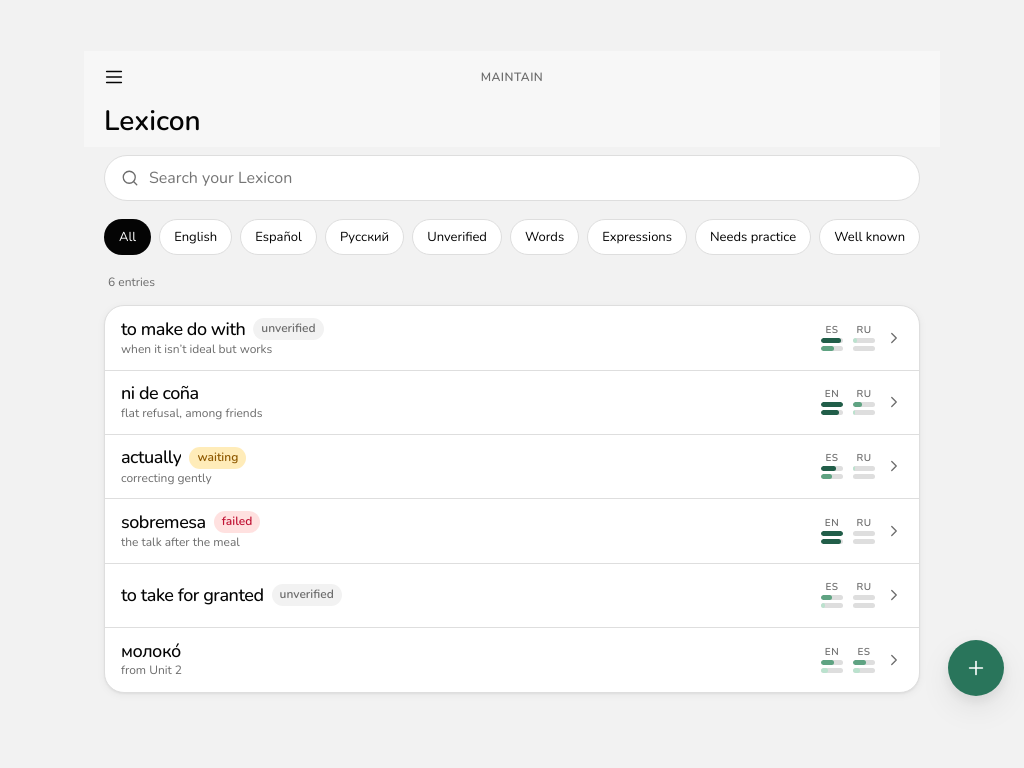
it: a held Lexicon row › deletes from the options only after asking
# A right click, or the keyboard's menu key, opens the same options.
Right-click the button "sobremesa failed the talk after the meal EN RU" at (163, 522), box 105,499 -> 919,564
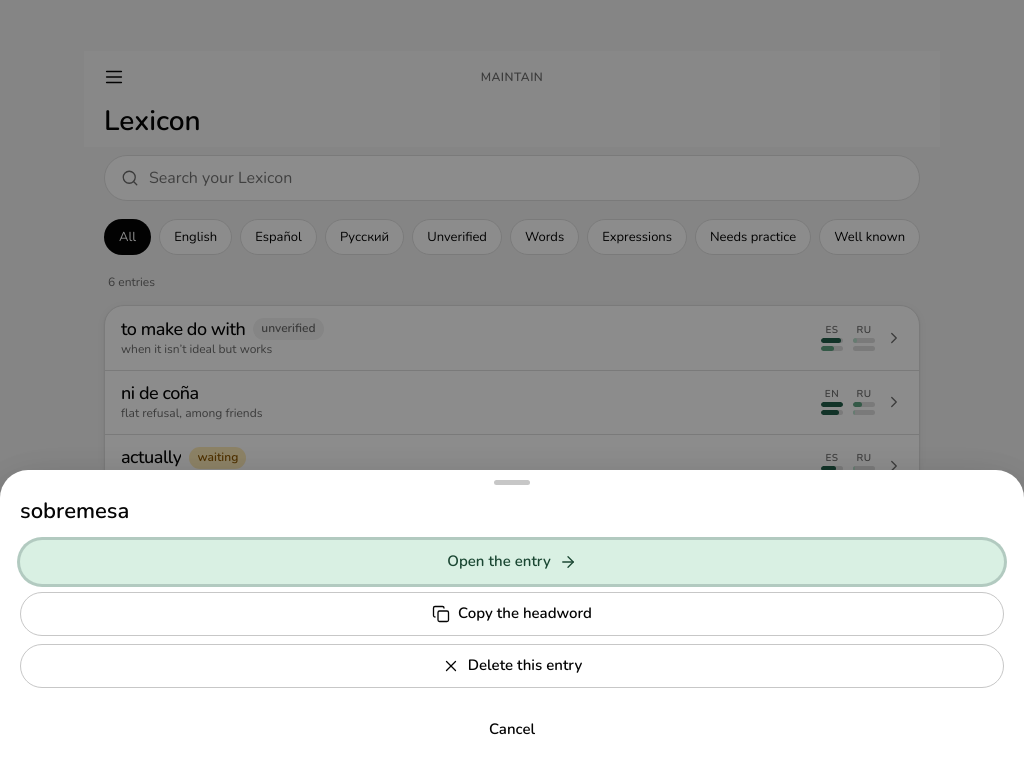
Click the button "Delete this entry" at (512, 666), box 20,644 -> 1004,688
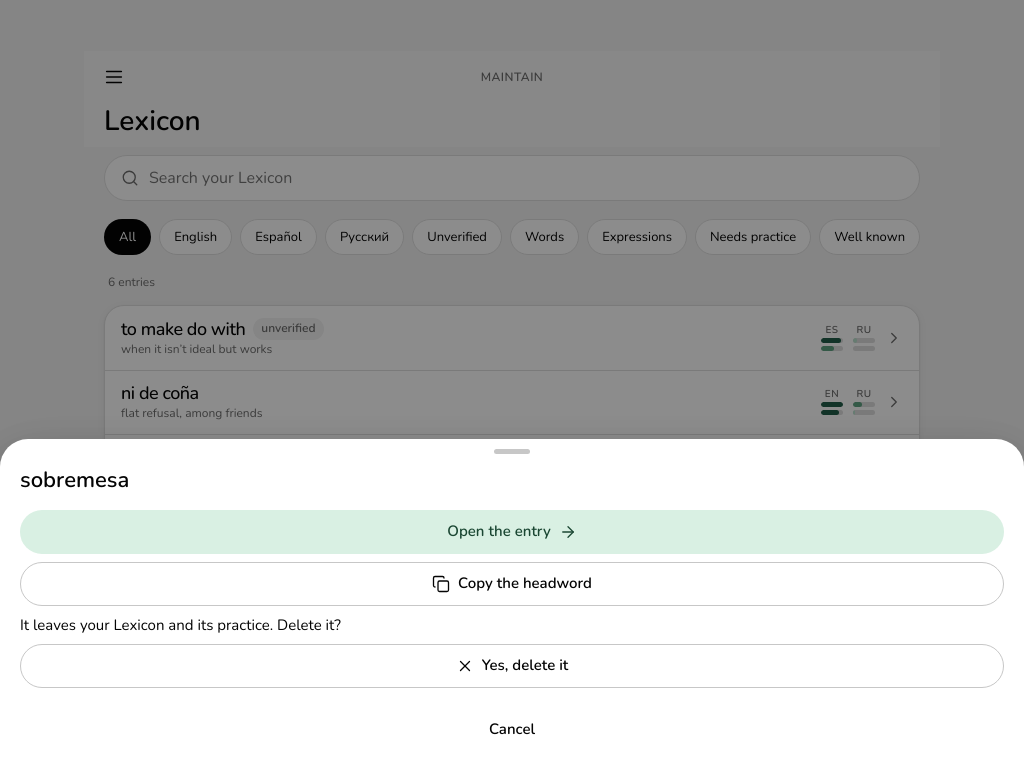
Expected: the button "sobremesa failed the talk after the meal EN RU" is shown, 105,499 -> 919,564
Expected: the text "It leaves your Lexicon and its practice. Delete it?" is shown, 20,614 -> 341,634
Click the button "Yes, delete it" at (512, 666), box 20,644 -> 1004,688
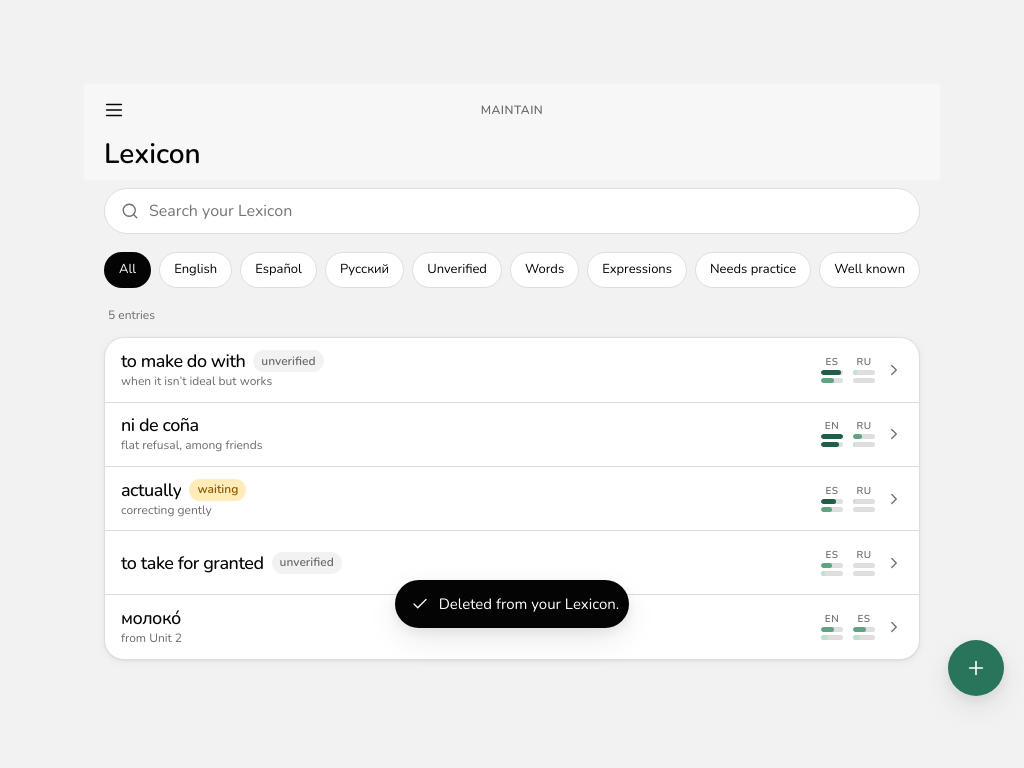
Expected: the text "Deleted from your Lexicon." is shown, 439,593 -> 619,615
Expected: the button "sobremesa" is gone
Expected: the text "5 entries" is shown, 108,307 -> 155,323
